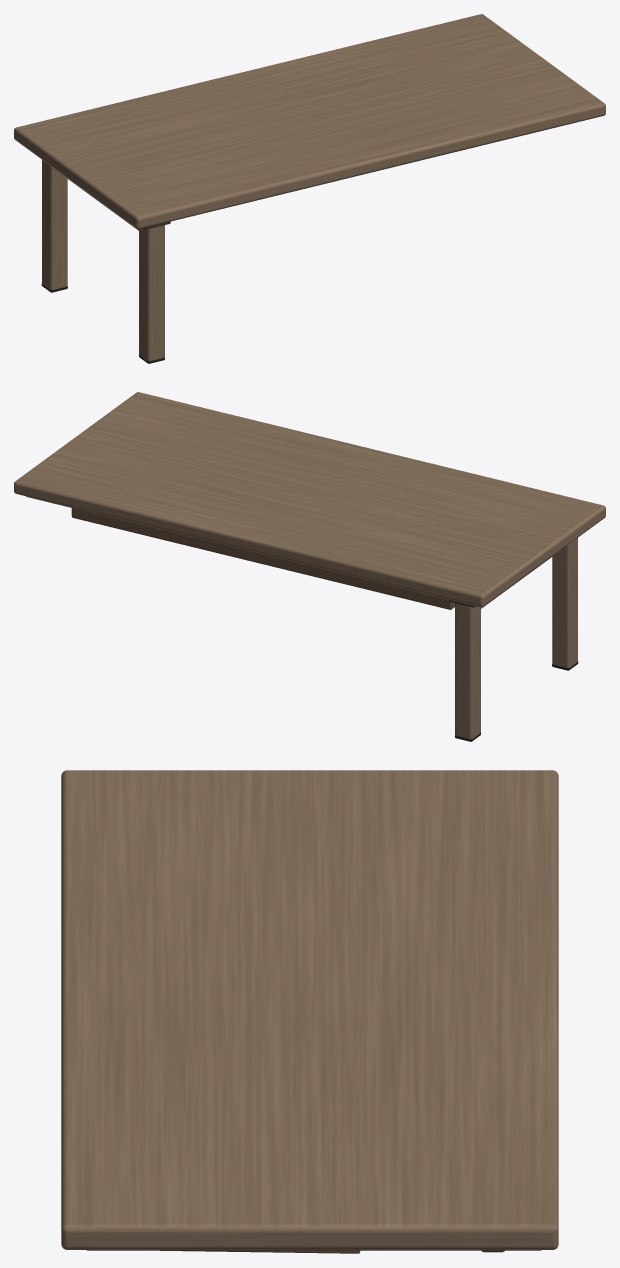
File: desk-refined.glb
3 views of the same model, one above another, from view 1: azimuth 30°, elevation 25°; view 2: azimuth 150°, elevation 25°; view 3: azimuth 270°, elevation 25° (orthographic). The views are drawn at different scales.
Visible parts, largest first — view 1: DeskStudy_Top, DeskStudy_LeftLeg_Front, DeskStudy_LeftLeg_Back; view 2: DeskStudy_Top, DeskStudy_RearRail, DeskStudy_LeftLeg_Back, DeskStudy_LeftLeg_Front, DeskStudy_Undercut; view 3: DeskStudy_Top.
Part boxes in pixels (box(x1,y1,x2,y2)): DeskStudy_Top: box(14, 14, 605, 229); DeskStudy_LeftLeg_Front: box(139, 225, 164, 361); DeskStudy_LeftLeg_Back: box(42, 160, 67, 290); DeskStudy_Top: box(14, 392, 605, 607); DeskStudy_RearRail: box(71, 508, 454, 609); DeskStudy_LeftLeg_Back: box(455, 603, 480, 739); DeskStudy_LeftLeg_Front: box(552, 538, 577, 668); DeskStudy_Undercut: box(26, 496, 478, 606); DeskStudy_Top: box(61, 770, 558, 1249).
Bounding box in the file's own units: 2.4 × 0.7685 × 1.1.
Materials: 4 (1 with a texture image).
